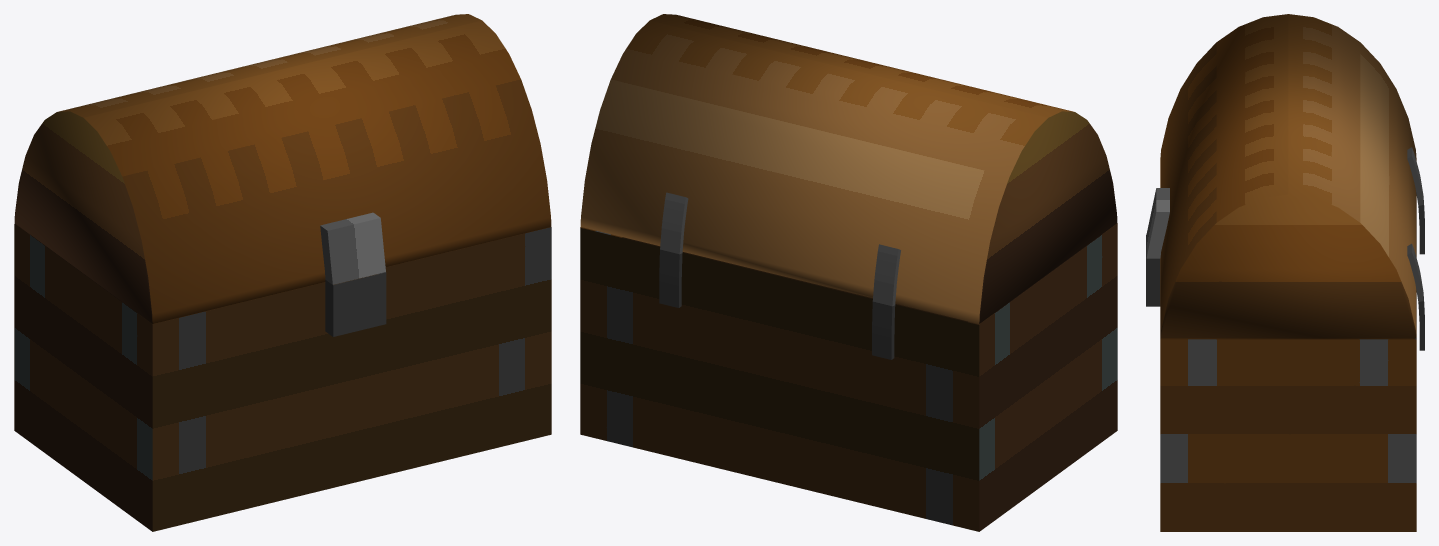
The model's file is chest_800_00.obj.
3 renders of one model, left to right at view 1: azimuth 30°, elevation 25°; view 2: azimuth 150°, elevation 25°; view 3: azimuth 270°, elevation 25°, orthographic. The views are drawn at different scales.
Parts seen in each view (by area): view 1: Chest.001; view 2: Chest.001; view 3: Chest.001.
Part boxes in pixels (x1,y1,x2,y2): Chest.001: (14,14,551,531); Chest.001: (580,14,1117,531); Chest.001: (1146,14,1424,531).
Size of the model in its own units: 1.88 by 1.63 by 1.22.
